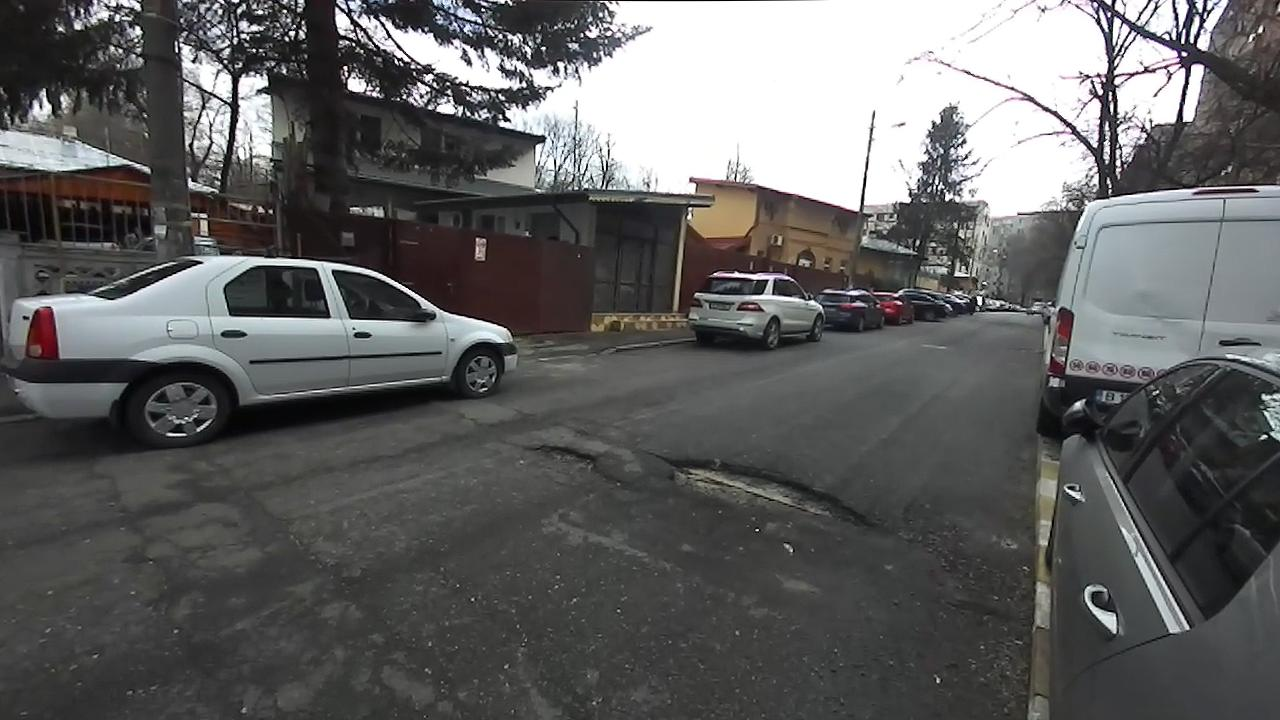pothole: (649, 447, 882, 540), (522, 441, 623, 485)
